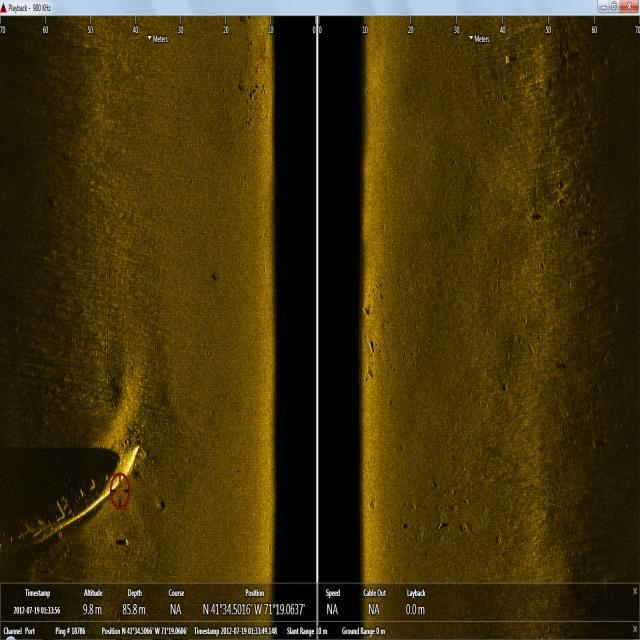ship: (8, 440, 142, 548)
